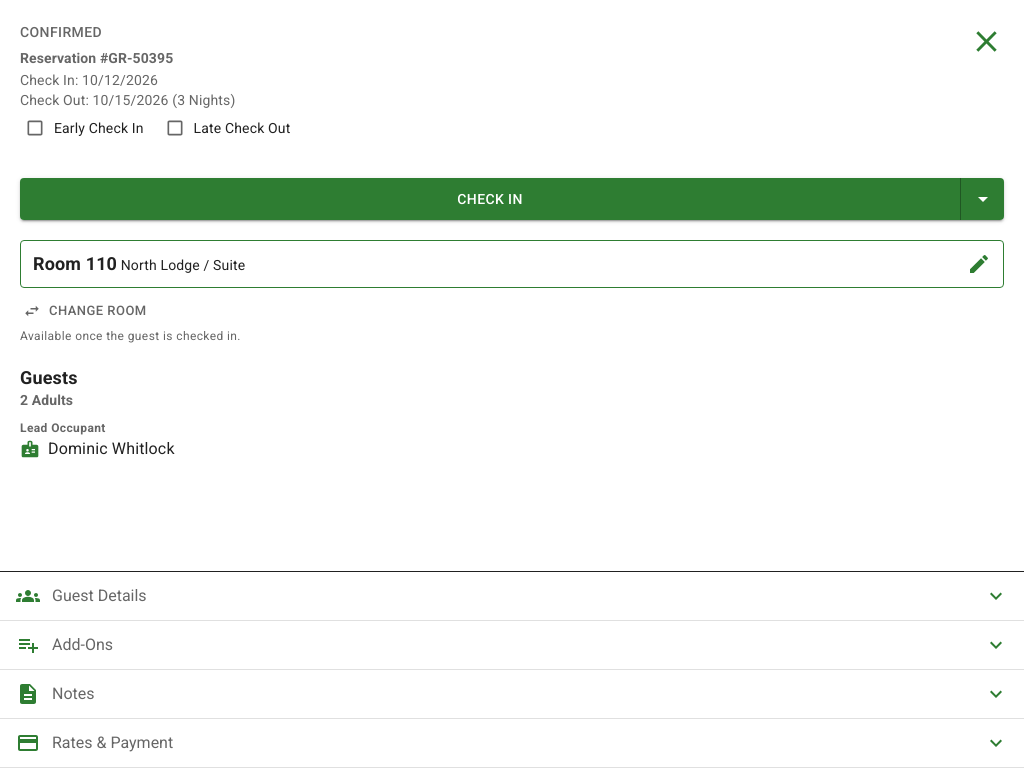
Test: check in on a past date › "adjust reservation dates" does not check in and explains where it goes
The width and height of the screenshot is (1024, 768).
Click the button "Check In".
click(491, 199)  # box [20,178,961,220]
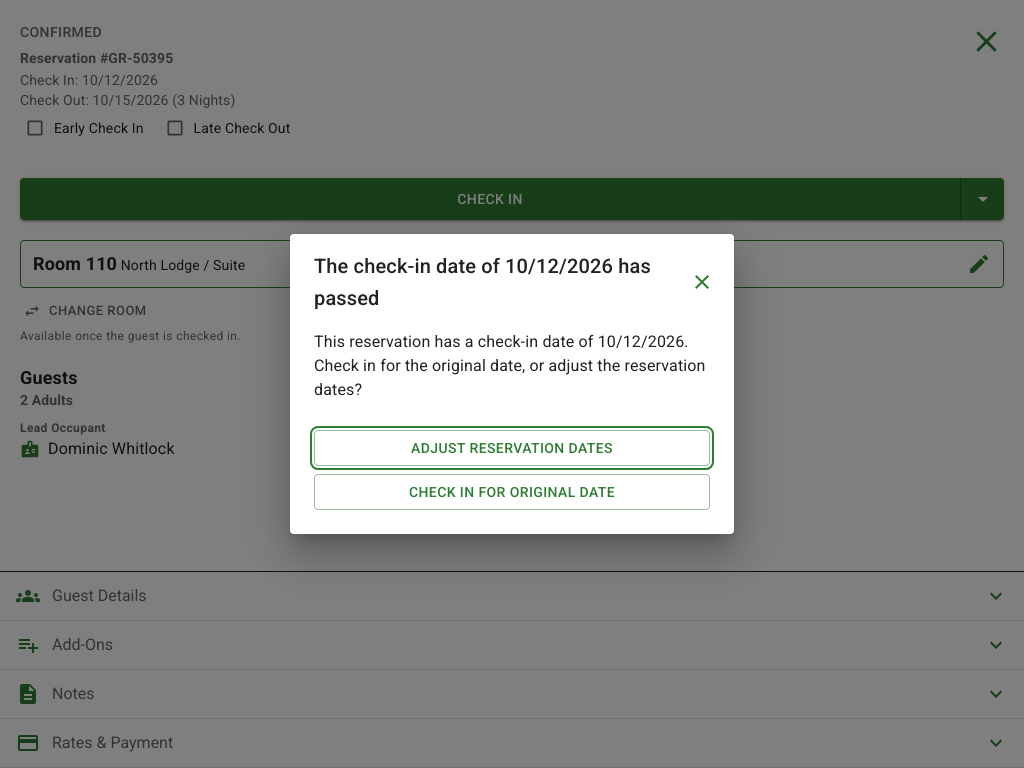
Click the button "Adjust reservation dates".
click(512, 448)  # box [314,430,710,466]
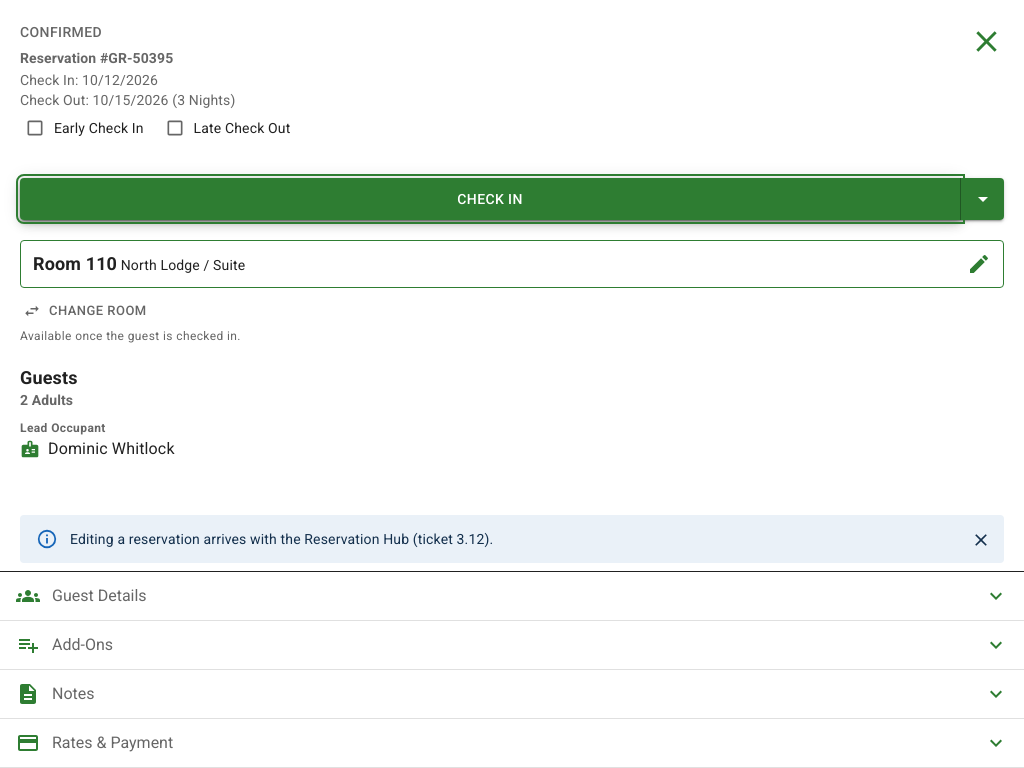
Expected: the text "Editing a reservation arrives with the Reservation Hub" is shown, [70,531,493,547]
